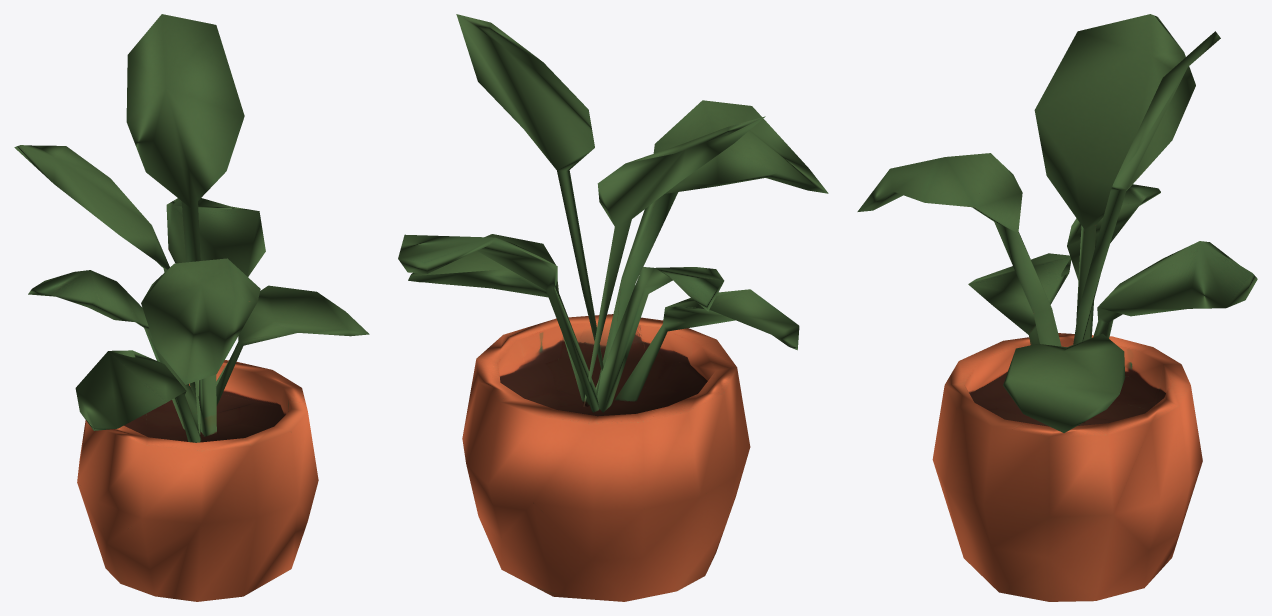
The model's file is small_plant.fbx.
The picture shows the model from 3 angles, left to right: view 1: azimuth 30°, elevation 25°; view 2: azimuth 150°, elevation 25°; view 3: azimuth 270°, elevation 25°; orthographic projection. The views are drawn at different scales.
Parts seen in each view (by area): view 1: Mesh_0; view 2: Mesh_0; view 3: Mesh_0.
Boxes of the visible parts, x1=… form: Mesh_0: x1=14, y1=14, x2=369, y2=601; Mesh_0: x1=398, y1=14, x2=828, y2=601; Mesh_0: x1=857, y1=14, x2=1257, y2=601.
Size of the model in its own units: 61.33 by 95.51 by 63.72.
Materials: 1 (1 with a texture image).
